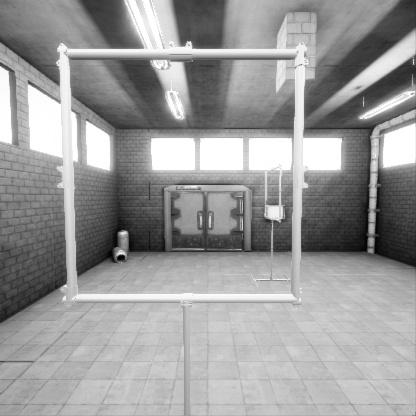gate: (83, 132, 315, 360), (265, 196, 281, 253)
